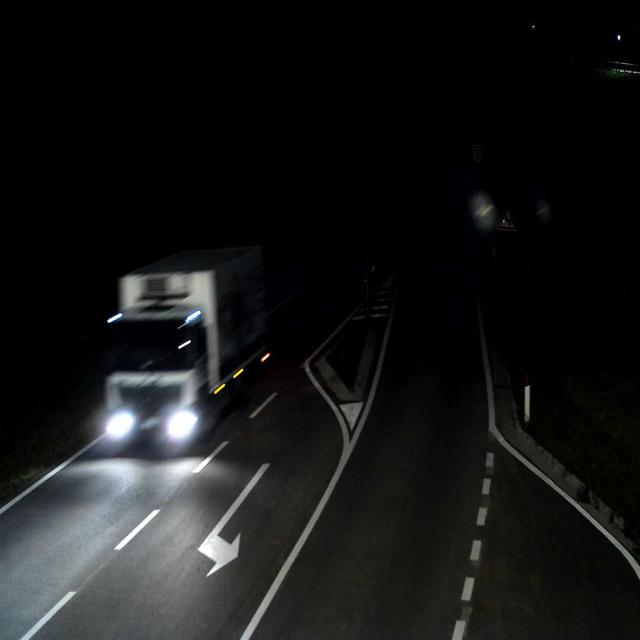truck: (101, 243, 272, 457)
